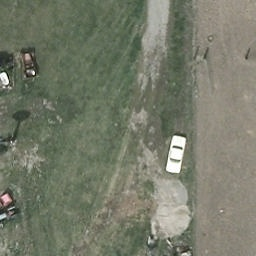car: (164, 134, 189, 174)
